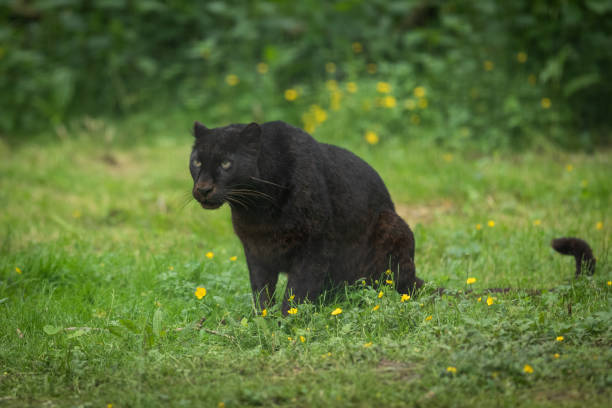panther: (177, 114, 267, 217)
